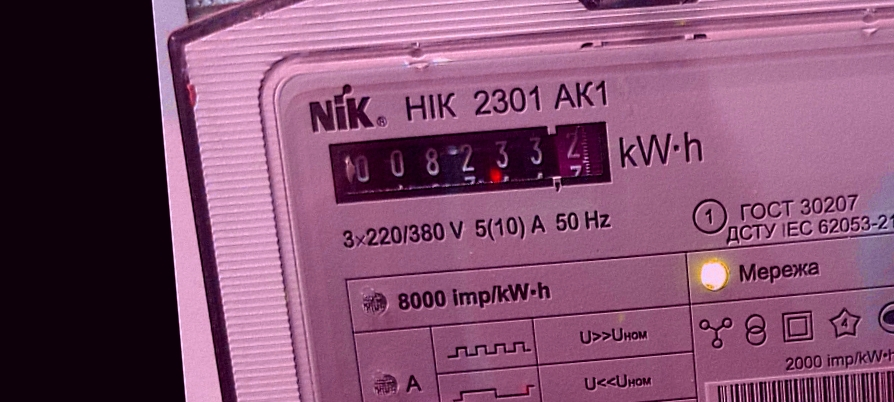0: (351, 151, 374, 185), (387, 147, 408, 180)
2: (456, 141, 478, 175), (563, 128, 583, 161)
3: (492, 138, 512, 170), (527, 134, 547, 166)
8: (422, 145, 442, 178)
screen: (318, 108, 624, 215)
